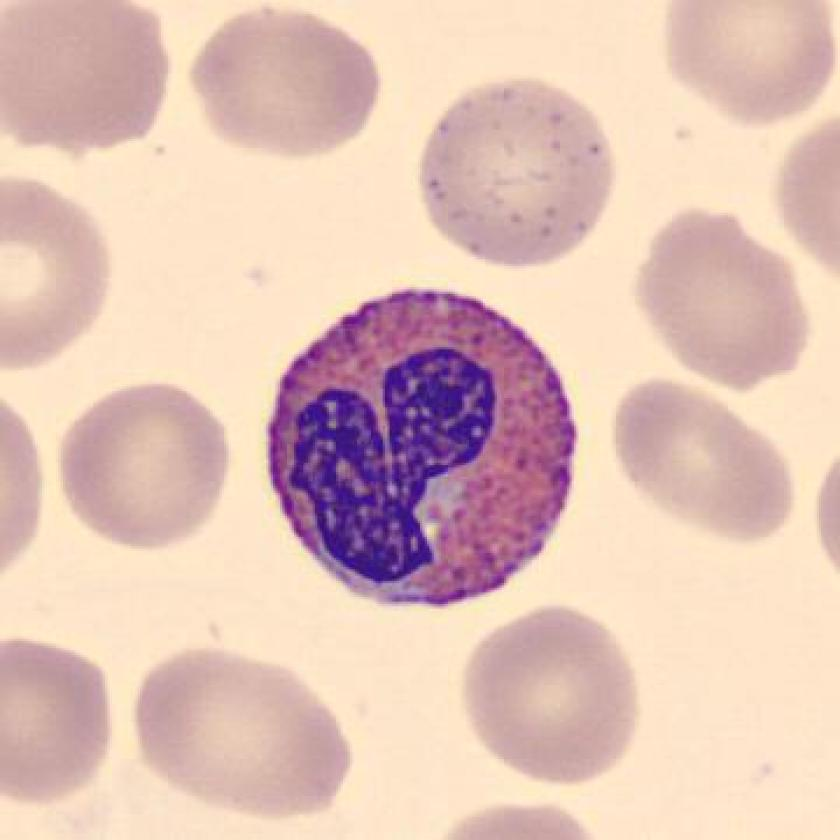eosinophil: (253, 272, 598, 626)
